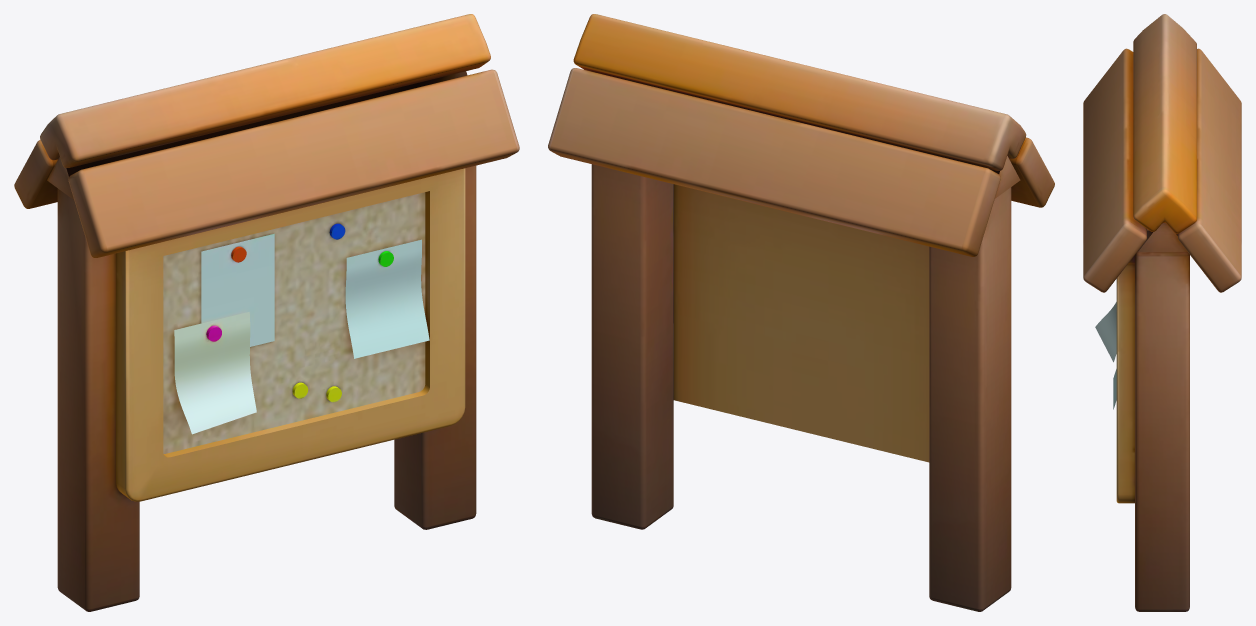
Rendered from board-transformed.glb.
3 renders of one model, left to right at view 1: azimuth 30°, elevation 25°; view 2: azimuth 150°, elevation 25°; view 3: azimuth 270°, elevation 25°, orthographic. The views are drawn at different scales.
Parts seen in each view (by area): view 1: board; view 2: board; view 3: board.
Boxes of the visible parts, left/top/right/bottom form: board: left=14, top=14, right=519, bottom=611; board: left=548, top=14, right=1054, bottom=611; board: left=1083, top=14, right=1241, bottom=611.
Bounding box in the file's own units: 1.41 × 1.58 × 0.5291.
Materials: 1 (1 with a texture image).
